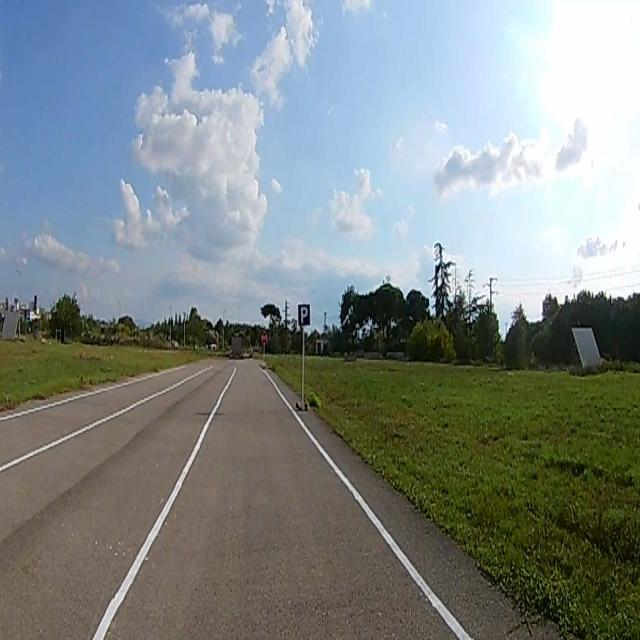park: (298, 304, 310, 325)
